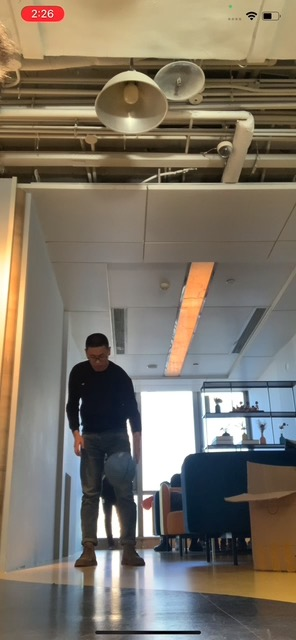ball: (104, 452, 138, 484)
